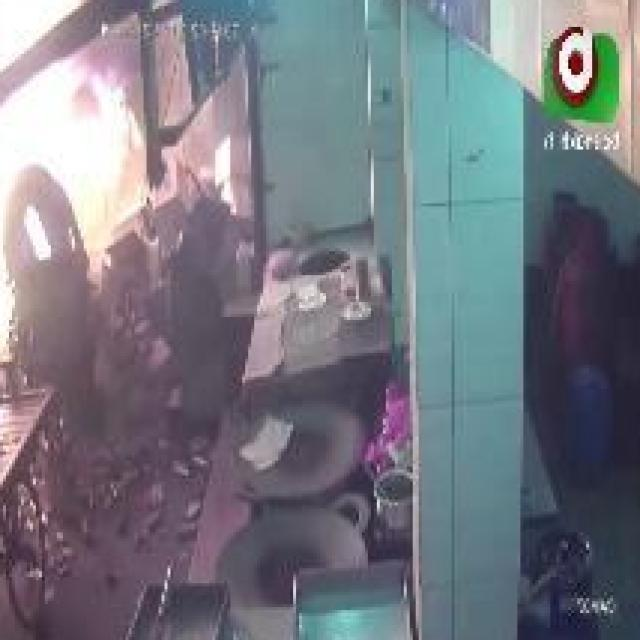smoke: (0, 0, 126, 341)
